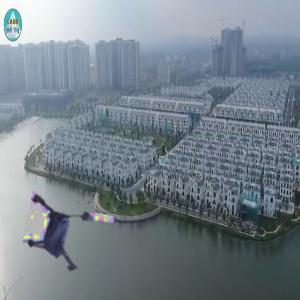drone: (24, 198, 117, 291)
